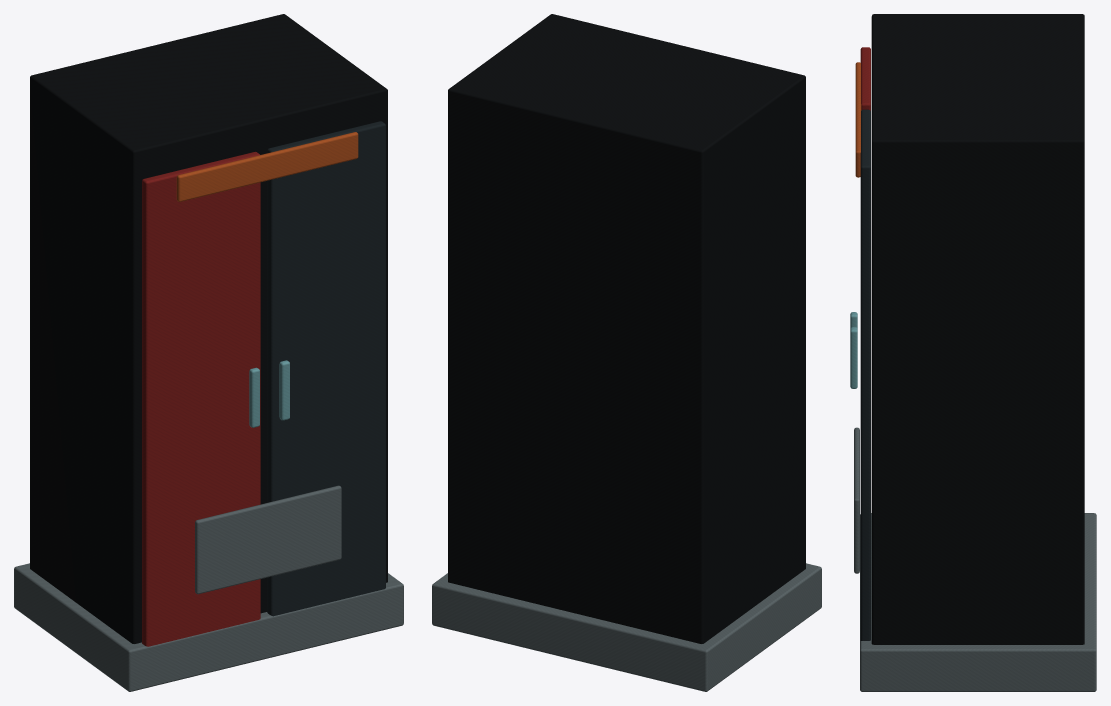
The model's file is ChemicalStorageLocker.fbx.
3 renders of one model, left to right at view 1: azimuth 30°, elevation 25°; view 2: azimuth 150°, elevation 25°; view 3: azimuth 270°, elevation 25°, orthographic. The views are drawn at different scales.
Parts seen in each view (by area): view 1: ChemicalStorageLocker_Mesh; view 2: ChemicalStorageLocker_Mesh; view 3: ChemicalStorageLocker_Mesh.
Part boxes in pixels (x1,y1,x2,y2): ChemicalStorageLocker_Mesh: (14, 14, 403, 691); ChemicalStorageLocker_Mesh: (432, 14, 821, 691); ChemicalStorageLocker_Mesh: (850, 14, 1096, 691).
Size of the model in its own units: 110 by 204 by 83.25.
